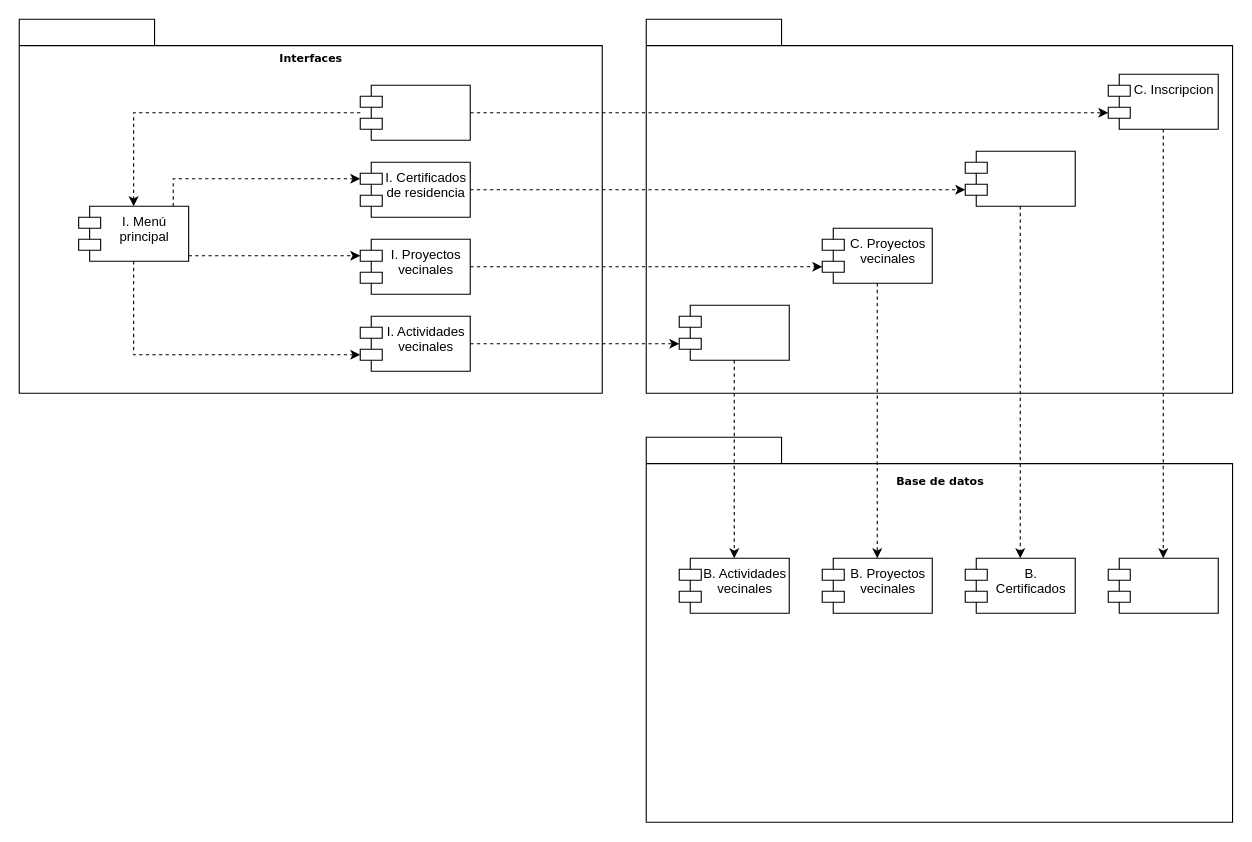
The diagram is 1252 pixels wide and 842 high, and some of its shapes have lost their labels. Here are the shapes that lost their labels. From the top down, the box of each, then its label:
(359, 84, 470, 140): I.Inscripcion
(964, 150, 1075, 206): C. Certificados de residencia
(645, 18, 1233, 393): Clases
(678, 304, 789, 360): C. Actividades vecinales
(1107, 557, 1218, 613): B. Usuarios
